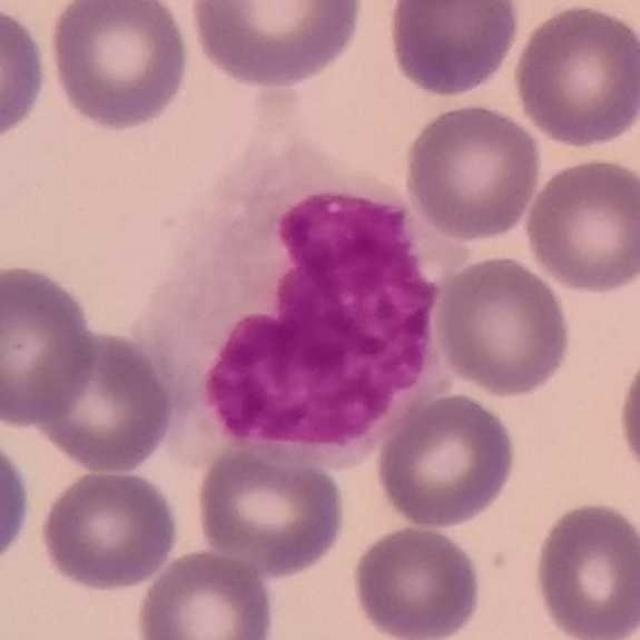mono: (125, 129, 473, 471)
